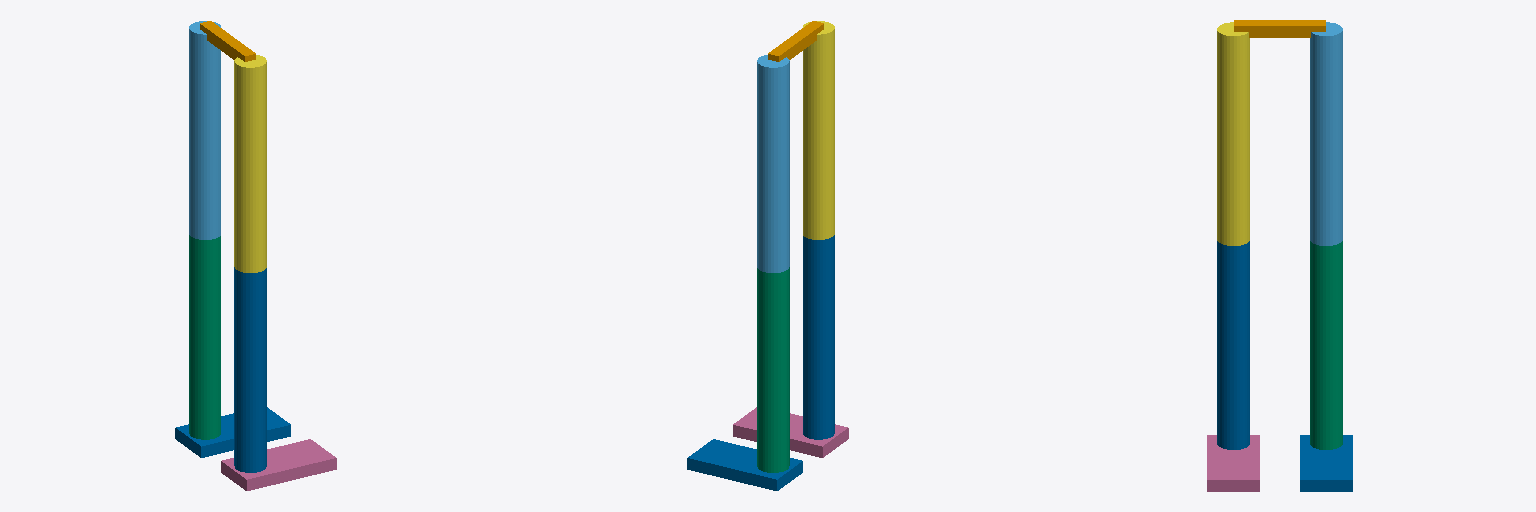
The robot description file, URDF, robot "reemc":
<?xml version="1.0" ?>
<robot name="reemc" xmlns:controller="http://playerstage.sourceforge.net/gazebo/xmlschema/#controller" xmlns:interface="http://playerstage.sourceforge.net/gazebo/xmlschema/#interface" xmlns:sensor="http://playerstage.sourceforge.net/gazebo/xmlschema/#sensor" xmlns:xacro="http://www.ros.org/wiki/xacro">
<link name="pelvis">
    <inertial>
      <mass value="6.0"/>
      <origin rpy="0 0 0" xyz="0.0 0.0 0.0"/>
      <inertia ixx="0.11" ixy="0" ixz="0" iyy="0.2" iyz="0.0" izz="0.15"/>
    </inertial>
    <visual>
      <origin rpy="0 -0 0" xyz="0 0 0"/>
      <geometry>
        <box size="0.02 0.14 0.02"/>
      </geometry>
    </visual>
    <collision>
      <origin rpy="0 -0 0" xyz="0 0 0"/>
      <geometry>
        <box size="0.02 0.14 0.02"/>
      </geometry>
    </collision>
  </link>

<link name="l_hip_z_link">
    <inertial>
      <mass value="1.0"/>
      <origin rpy="0 0 0" xyz="0.0 0.0 0.0"/>
      <inertia ixx="0.1" ixy="0" ixz="0" iyy="0.1" iyz="0.0" izz="0.1"/>
    </inertial>
  </link>

<joint name="l_hip_z_joint" type="revolute">
    <origin rpy="0 0 0" xyz="0 -0.07 0"/>
    <axis xyz="0 0 1"/>
    <parent link="pelvis"/>
    <child link="l_hip_z_link"/>
    <dynamics damping="0.1" friction="0"/>
    <limit effort="124.016" lower="-1.5708" upper="1.5708" velocity="12"/>
    <safety_controller k_position="100" k_velocity="100" soft_lower_limit="-10.6109" soft_upper_limit="10.6109"/>
  </joint>

  <link name="l_hip_x_link">
    <inertial>
      <mass value="1.0"/>
      <origin rpy="0 0 0" xyz="0.0 0.0 0.0"/>
      <inertia ixx="0.1" ixy="0" ixz="0" iyy="0.1" iyz="0.0" izz="0.1"/>
    </inertial>
  </link>

  <joint name="l_hip_x_joint" type="revolute">
    <origin xyz="0 0 0.0" rpy="0 1.5708 0" />
    <axis xyz="0 0 1"/>
    <parent link="l_hip_z_link"/>
    <child link="l_hip_x_link"/>
    <dynamics damping="0.1" friction="0"/>
       <limit effort="124.016" lower="-1.5708" upper="1.5708" velocity="12"/>
    <safety_controller k_position="100" k_velocity="100" soft_lower_limit="-10.6109" soft_upper_limit="10.6109"/>
  </joint>

<link name="l_hip_y_link">
    <inertial>
      <mass value="2.0"/>
      <origin rpy="0 0 0" xyz="0.0 0.0 0.0"/>
      <inertia ixx="0.1" ixy="0" ixz="0" iyy="0.1" iyz="0.0" izz="0.1"/>
    </inertial>
     <visual>
      <origin rpy="0 1.5708 0" xyz="0.175 0 0.0"/>
      <geometry>
        <cylinder length="0.35" radius="0.025"/>
      </geometry>
    </visual>
    <collision>
      <origin rpy="0 1.5708 0" xyz="0.175 0 0.0"/>
      <geometry>
        <cylinder length="0.35" radius="0.025"/>
      </geometry>
    </collision>
  </link>

  <joint name="l_hip_y_joint" type="revolute">
    <origin xyz="0 0 0.0" rpy="1.5708 0 0" />
    <axis xyz="0 0 1"/>
    <parent link="l_hip_x_link"/>
    <child link="l_hip_y_link"/>
    <dynamics damping="0.1" friction="0"/>
    <limit effort="124.016" lower="-1.5708" upper="1.5708" velocity="12"/>
    <safety_controller k_position="100" k_velocity="100" soft_lower_limit="-10.6109" soft_upper_limit="10.6109"/>
  </joint>

  <link name="l_knee_link">
    <inertial>
      <mass value="2.0"/>
      <origin rpy="0 0 0" xyz="0.0 0.0 0.0"/>
      <inertia ixx="0.1" ixy="0" ixz="0" iyy="0.1" iyz="0.0" izz="0.1"/>
    </inertial>
   <visual>
      <origin rpy="0 1.5708 0" xyz="0.175 0 0.0"/>
      <geometry>
        <cylinder length="0.35" radius="0.025"/>
      </geometry>
    </visual>
    <collision>
      <origin rpy="0 1.5708 0" xyz="0.175 0 0"/>
      <geometry>
        <cylinder length="0.35" radius="0.025"/>
      </geometry>
    </collision>
  </link>

  <joint name="l_knee_joint" type="revolute">
    <origin xyz="0.35 0 0.0" rpy="0 0 0" />
    <axis xyz="0 0 1"/>
    <parent link="l_hip_y_link"/>
    <child link="l_knee_link"/>
    <dynamics damping="0.1" friction="0"/>
    <limit effort="124.016" lower="-1.5708" upper="1.5708" velocity="12"/>
    <safety_controller k_position="100" k_velocity="100" soft_lower_limit="-10.6109" soft_upper_limit="10.6109"/>
  </joint>

  <link name="l_ankle_y_link">
    <inertial>
      <mass value="1.0"/>
      <origin rpy="0 0 0" xyz="0.0 0.0 0.0"/>
      <inertia ixx="0.1" ixy="0" ixz="0" iyy="0.1" iyz="0.0" izz="0.1"/>
    </inertial>
  </link>

  <joint name="l_ankle_y_joint" type="revolute">
    <origin xyz="0.35 0 0.0" rpy="0 0 0" />
    <axis xyz="0 0 1"/>
    <parent link="l_knee_link"/>
    <child link="l_ankle_y_link"/>
    <dynamics damping="0.1" friction="0"/>
    <limit effort="124.016" lower="-1.5708" upper="1.5708" velocity="12"/>
    <safety_controller k_position="100" k_velocity="100" soft_lower_limit="-10.6109" soft_upper_limit="10.6109"/>
  </joint>

  <link name="l_ankle_x_link">
    <inertial>
      <mass value="1.0"/>
      <origin rpy="0 0 0" xyz="0.0 0.0 0.0"/>
      <inertia ixx="0.01" ixy="0" ixz="0" iyy="0.01" iyz="0.0" izz="0.01"/>
    </inertial>
    <visual>
      <origin rpy="0 0 0" xyz="0.0 0 0.05"/>
      <geometry>
        <box size="0.02 0.08 0.16"/>
      </geometry>
    </visual>
    <collision>
      <origin rpy="0 0 0" xyz="0.0 0 0.05"/>
      <geometry>
        <box size="0.02 0.08 0.16"/>
      </geometry>
    </collision>
  </link>

  <joint name="l_ankle_x_joint" type="revolute">
    <origin xyz="0.0 0 0.0" rpy="-1.5708 0 0" />
    <axis xyz="0 0 1"/>
    <parent link="l_ankle_y_link"/>
    <child link="l_ankle_x_link"/>
    <dynamics damping="0.1" friction="0"/>
    <limit effort="124.016" lower="-1.5708" upper="1.5708" velocity="12"/>
    <safety_controller k_position="100" k_velocity="100" soft_lower_limit="-10.6109" soft_upper_limit="10.6109"/>
  </joint>



  <link name="r_hip_z_link">
    <inertial>
      <mass value="1.0"/>
      <origin rpy="0 0 0" xyz="0.0 0.0 0.0"/>
      <inertia ixx="0.1" ixy="0" ixz="0" iyy="0.1" iyz="0.0" izz="0.1"/>
    </inertial>
  </link>

<joint name="r_hip_z_joint" type="revolute">
    <origin rpy="0 0 0" xyz="0 0.07 0"/>
    <axis xyz="0 0 1"/>
    <parent link="pelvis"/>
    <child link="r_hip_z_link"/>
    <dynamics damping="0.1" friction="0"/>
    <limit effort="124.016" lower="-1.5708" upper="1.5708" velocity="12"/>
    <safety_controller k_position="100" k_velocity="100" soft_lower_limit="-10.6109" soft_upper_limit="10.6109"/>
  </joint>

  <link name="r_hip_x_link">
    <inertial>
      <mass value="1.0"/>
      <origin rpy="0 0 0" xyz="0.0 0.0 0.0"/>
      <inertia ixx="0.1" ixy="0" ixz="0" iyy="0.1" iyz="0.0" izz="0.1"/>
    </inertial>
  </link>

  <joint name="r_hip_x_joint" type="revolute">
    <origin xyz="0 0 0.0" rpy="0 1.5708 0" />
    <axis xyz="0 0 1"/>
    <parent link="r_hip_z_link"/>
    <child link="r_hip_x_link"/>
    <dynamics damping="0.1" friction="0"/>
    <limit effort="124.016" lower="-1.5708" upper="1.5708" velocity="12"/>
    <safety_controller k_position="100" k_velocity="100" soft_lower_limit="-10.6109" soft_upper_limit="10.6109"/>
  </joint>

<link name="r_hip_y_link">
    <inertial>
      <mass value="2.0"/>
      <origin rpy="0 0 0" xyz="0.0 0.0 0.0"/>
      <inertia ixx="0.1" ixy="0" ixz="0" iyy="0.1" iyz="0.0" izz="0.1"/>
    </inertial>
    <visual>
      <origin rpy="0 1.5708 0" xyz="0.175 0 0.0"/>
      <geometry>
        <cylinder length="0.35" radius="0.025"/>
      </geometry>
    </visual>
    <collision>
      <origin rpy="0 1.5708 0" xyz="0.175 0 0"/>
      <geometry>
        <cylinder length="0.35" radius="0.025"/>
      </geometry>
    </collision>
  </link>

  <joint name="r_hip_y_joint" type="revolute">
    <origin xyz="0 0 0.0" rpy="1.5708 0 0" />
    <axis xyz="0 0 1"/>
    <parent link="r_hip_x_link"/>
    <child link="r_hip_y_link"/>
    <dynamics damping="0.1" friction="0"/>
    <limit effort="124.016" lower="-1.5708" upper="1.5708" velocity="12"/>
    <safety_controller k_position="100" k_velocity="100" soft_lower_limit="-10.6109" soft_upper_limit="10.6109"/>
  </joint>

  <link name="r_knee_link">
    <inertial>
      <mass value="2.0"/>
      <origin rpy="0 0 0" xyz="0.0 0.0 0.0"/>
      <inertia ixx="0.1" ixy="0" ixz="0" iyy="0.1" iyz="0.0" izz="0.1"/>
    </inertial>
    <visual>
      <origin rpy="0 1.5708 0" xyz="0.175 0 0.0"/>
      <geometry>
        <cylinder length="0.35" radius="0.025"/>
      </geometry>
    </visual>
    <collision>
      <origin rpy="0 1.5708 0" xyz="0.175 0 0"/>
      <geometry>
        <cylinder length="0.35" radius="0.025"/>
      </geometry>
    </collision>
  </link>

  <joint name="r_knee_joint" type="revolute">
    <origin xyz="0.35 0 0.0" rpy="0 0 0" />
    <axis xyz="0 0 1"/>
    <parent link="r_hip_y_link"/>
    <child link="r_knee_link"/>
    <dynamics damping="0.1" friction="0"/>
    <limit effort="124.016" lower="-1.5708" upper="1.5708" velocity="12"/>
    <safety_controller k_position="100" k_velocity="100" soft_lower_limit="-10.6109" soft_upper_limit="10.6109"/>
  </joint>

  <link name="r_ankle_y_link">
    <inertial>
      <mass value="1.0"/>
      <origin rpy="0 0 0" xyz="0.0 0.0 0.0"/>
      <inertia ixx="0.1" ixy="0" ixz="0" iyy="0.1" iyz="0.0" izz="0.1"/>
    </inertial>
  </link>

  <joint name="r_ankle_y_joint" type="revolute">
    <origin xyz="0.35 0 0.0" rpy="0 0 0" />
    <axis xyz="0 0 1"/>
    <parent link="r_knee_link"/>
    <child link="r_ankle_y_link"/>
    <dynamics damping="0.1" friction="0"/>
    <limit effort="124.016" lower="-1.5708" upper="1.5708" velocity="12"/>
    <safety_controller k_position="100" k_velocity="100" soft_lower_limit="-10.6109" soft_upper_limit="10.6109"/>
  </joint>

  <link name="r_ankle_x_link">
    <inertial>
      <mass value="1.0"/>
      <origin rpy="0 0 0" xyz="0.0 0.0 0.0"/>
      <inertia ixx="0.01" ixy="0" ixz="0" iyy="0.01" iyz="0.0" izz="0.01"/>
    </inertial>
    <visual>
      <origin rpy="0 0 0" xyz="0.0 0 0.05"/>
      <geometry>
        <box size="0.02 0.08 0.16"/>
      </geometry>
    </visual>
    <collision>
      <origin rpy="0 0 0" xyz="0.0 0 0.05"/>
      <geometry>
        <box size="0.02 0.08 0.16"/>
      </geometry>
    </collision>
  </link>

  <joint name="r_ankle_x_joint" type="revolute">
    <origin xyz="0.0 0 0.0" rpy="-1.5708 0 0" />
    <axis xyz="0 0 1"/>
    <parent link="r_ankle_y_link"/>
    <child link="r_ankle_x_link"/>
    <dynamics damping="0.1" friction="0"/>
    <limit effort="124.016" lower="-1.5708" upper="1.5708" velocity="12"/>
    <safety_controller k_position="100" k_velocity="100" soft_lower_limit="-10.6109" soft_upper_limit="10.6109"/>
  </joint>
  <gazebo>
    <!-- robot model offset -->
    <pose>0 0 0.93 0 0 0</pose>
  </gazebo>
  <gazebo>
    <plugin filename="libgazebo_ros_joint_trajectory.so" name="joint_trajectory_plugin">
      <topicName>joint_trajectory</topicName>
      <updateRate>1000.0</updateRate>
    </plugin>
    <plugin filename="libgazebo_ros_controller_manager.so" name="gazebo_ros_controller_manager">
      <alwaysOn>true</alwaysOn>
      <updateRate>1000.0</updateRate>
    </plugin>
  </gazebo>
  <gazebo>
    <plugin filename="libgazebo_ros_p3d.so" name="gazebo_ros_p3d">
      <bodyName>pelvis</bodyName>
      <topicName>/ground_truth_odom</topicName>
      <alwaysOn>true</alwaysOn>
      <updateRate>100.0</updateRate>
    </plugin>
  </gazebo>

</robot>

--- Facts derived from the render (not from the file) ---
3 views of the same robot in one strip: view 1: azimuth 30°, elevation 25°; view 2: azimuth 150°, elevation 25°; view 3: azimuth 270°, elevation 25° (orthographic).
Model reemc with 13 links and 12 joints (12 revolute), rooted at pelvis, posed every joint at zero.
Links seen in each view (by area): view 1: l_hip_y_link, l_knee_link, r_hip_y_link, r_knee_link, l_ankle_x_link, r_ankle_x_link, pelvis; view 2: r_hip_y_link, r_knee_link, l_hip_y_link, l_knee_link, r_ankle_x_link, l_ankle_x_link, pelvis; view 3: l_hip_y_link, r_hip_y_link, l_knee_link, r_knee_link, l_ankle_x_link, r_ankle_x_link, pelvis.
Link boxes in pixels (box(x1,y1,x2,y2)): l_hip_y_link: box(234, 55, 266, 272); l_knee_link: box(234, 267, 266, 472); r_hip_y_link: box(189, 21, 220, 239); r_knee_link: box(189, 235, 220, 439); l_ankle_x_link: box(221, 439, 336, 490); r_ankle_x_link: box(175, 407, 290, 457); pelvis: box(200, 21, 255, 61); r_hip_y_link: box(757, 55, 789, 272); r_knee_link: box(757, 267, 789, 472); l_hip_y_link: box(803, 21, 834, 239); l_knee_link: box(803, 235, 834, 439); r_ankle_x_link: box(687, 439, 802, 490); l_ankle_x_link: box(733, 407, 848, 457); pelvis: box(768, 21, 823, 61); l_hip_y_link: box(1217, 22, 1249, 245); r_hip_y_link: box(1310, 22, 1342, 245); l_knee_link: box(1217, 241, 1249, 449); r_knee_link: box(1310, 241, 1342, 449); l_ankle_x_link: box(1207, 435, 1259, 491); r_ankle_x_link: box(1300, 435, 1352, 491); pelvis: box(1234, 20, 1325, 37).
Bounding box of the posed robot: 0.16 × 0.22 × 0.72 m (x, y, z).
Geometry: primitives only (box / cylinder / sphere), no mesh files.